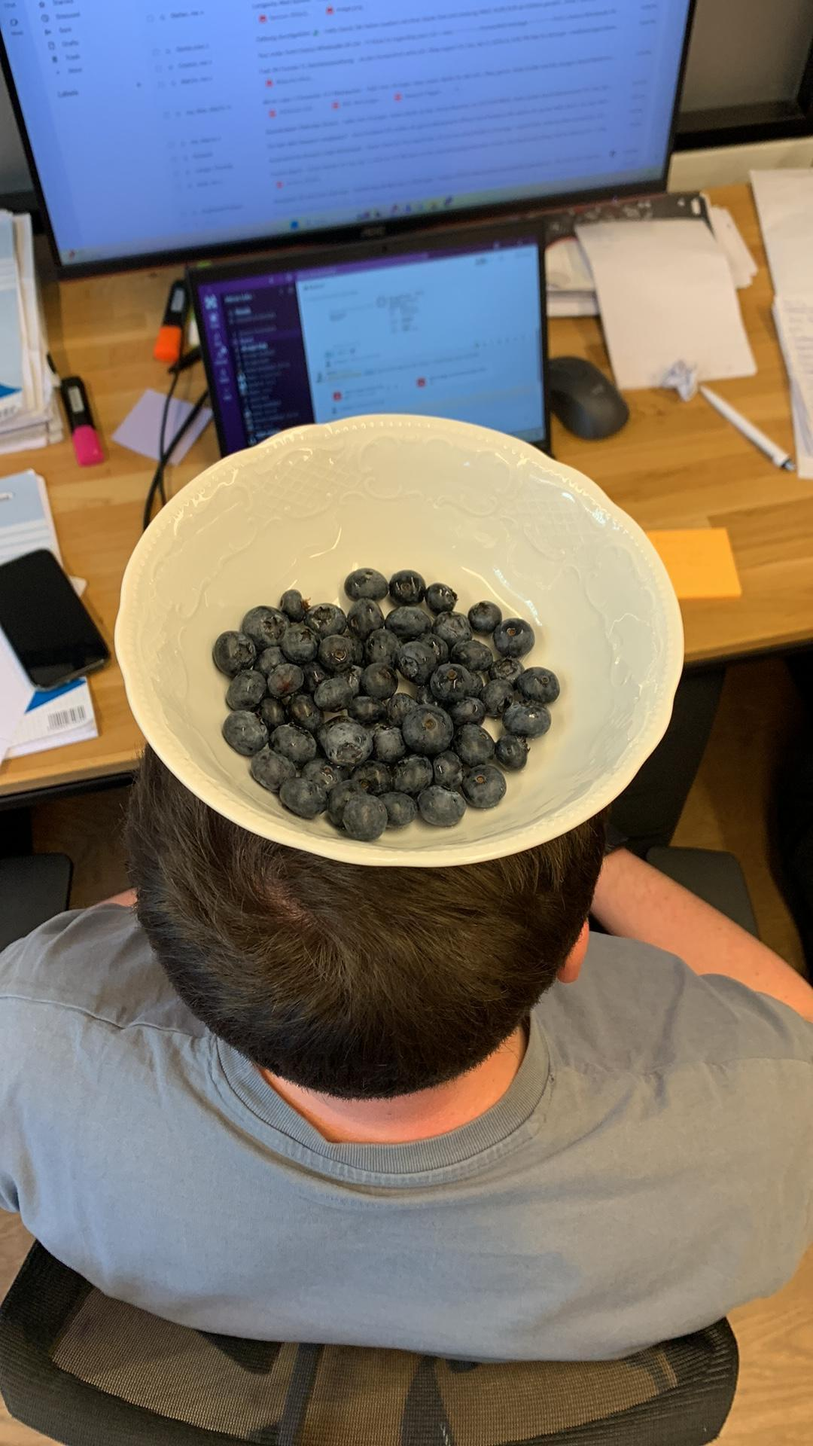blueberry: (405, 704, 460, 757), (323, 718, 373, 767), (241, 603, 289, 648), (461, 766, 510, 808), (505, 699, 554, 739), (347, 796, 388, 843), (396, 754, 439, 798), (224, 708, 266, 751), (422, 786, 466, 827), (253, 748, 294, 791), (214, 629, 254, 673), (364, 625, 400, 673), (432, 660, 472, 703), (282, 776, 326, 815), (269, 721, 315, 758), (343, 565, 390, 601), (304, 602, 347, 641), (397, 641, 434, 686), (386, 606, 432, 642), (352, 757, 394, 796), (345, 596, 383, 639), (227, 667, 263, 711), (433, 609, 474, 647), (495, 617, 534, 656), (452, 640, 495, 675), (368, 725, 408, 762), (287, 691, 327, 728), (458, 723, 493, 765), (517, 667, 560, 701), (387, 569, 428, 604), (280, 623, 316, 662), (450, 696, 489, 731), (334, 779, 363, 825), (492, 734, 531, 768), (303, 755, 345, 786), (314, 676, 350, 710), (360, 664, 396, 698), (492, 655, 524, 693), (347, 694, 386, 725), (381, 791, 414, 826), (384, 689, 416, 725), (322, 636, 353, 673), (256, 696, 288, 730), (483, 679, 512, 716), (269, 663, 303, 694), (434, 753, 466, 785), (423, 580, 454, 612), (280, 584, 306, 620), (469, 600, 499, 631)
